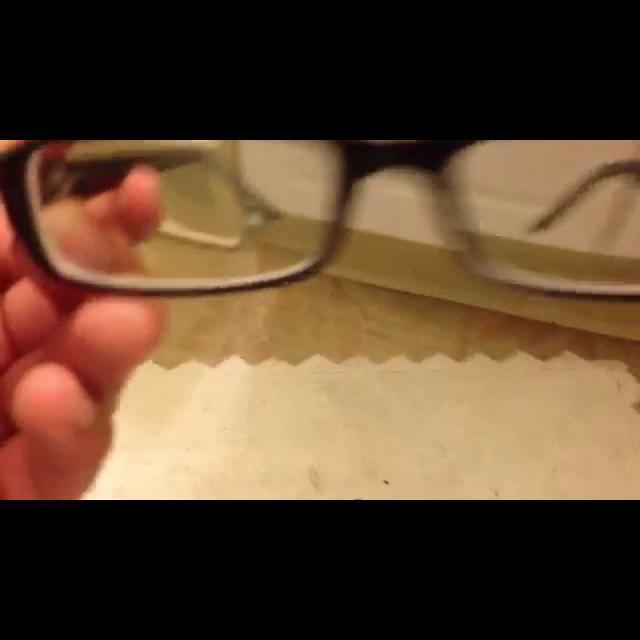glasses: (8, 140, 640, 294)
